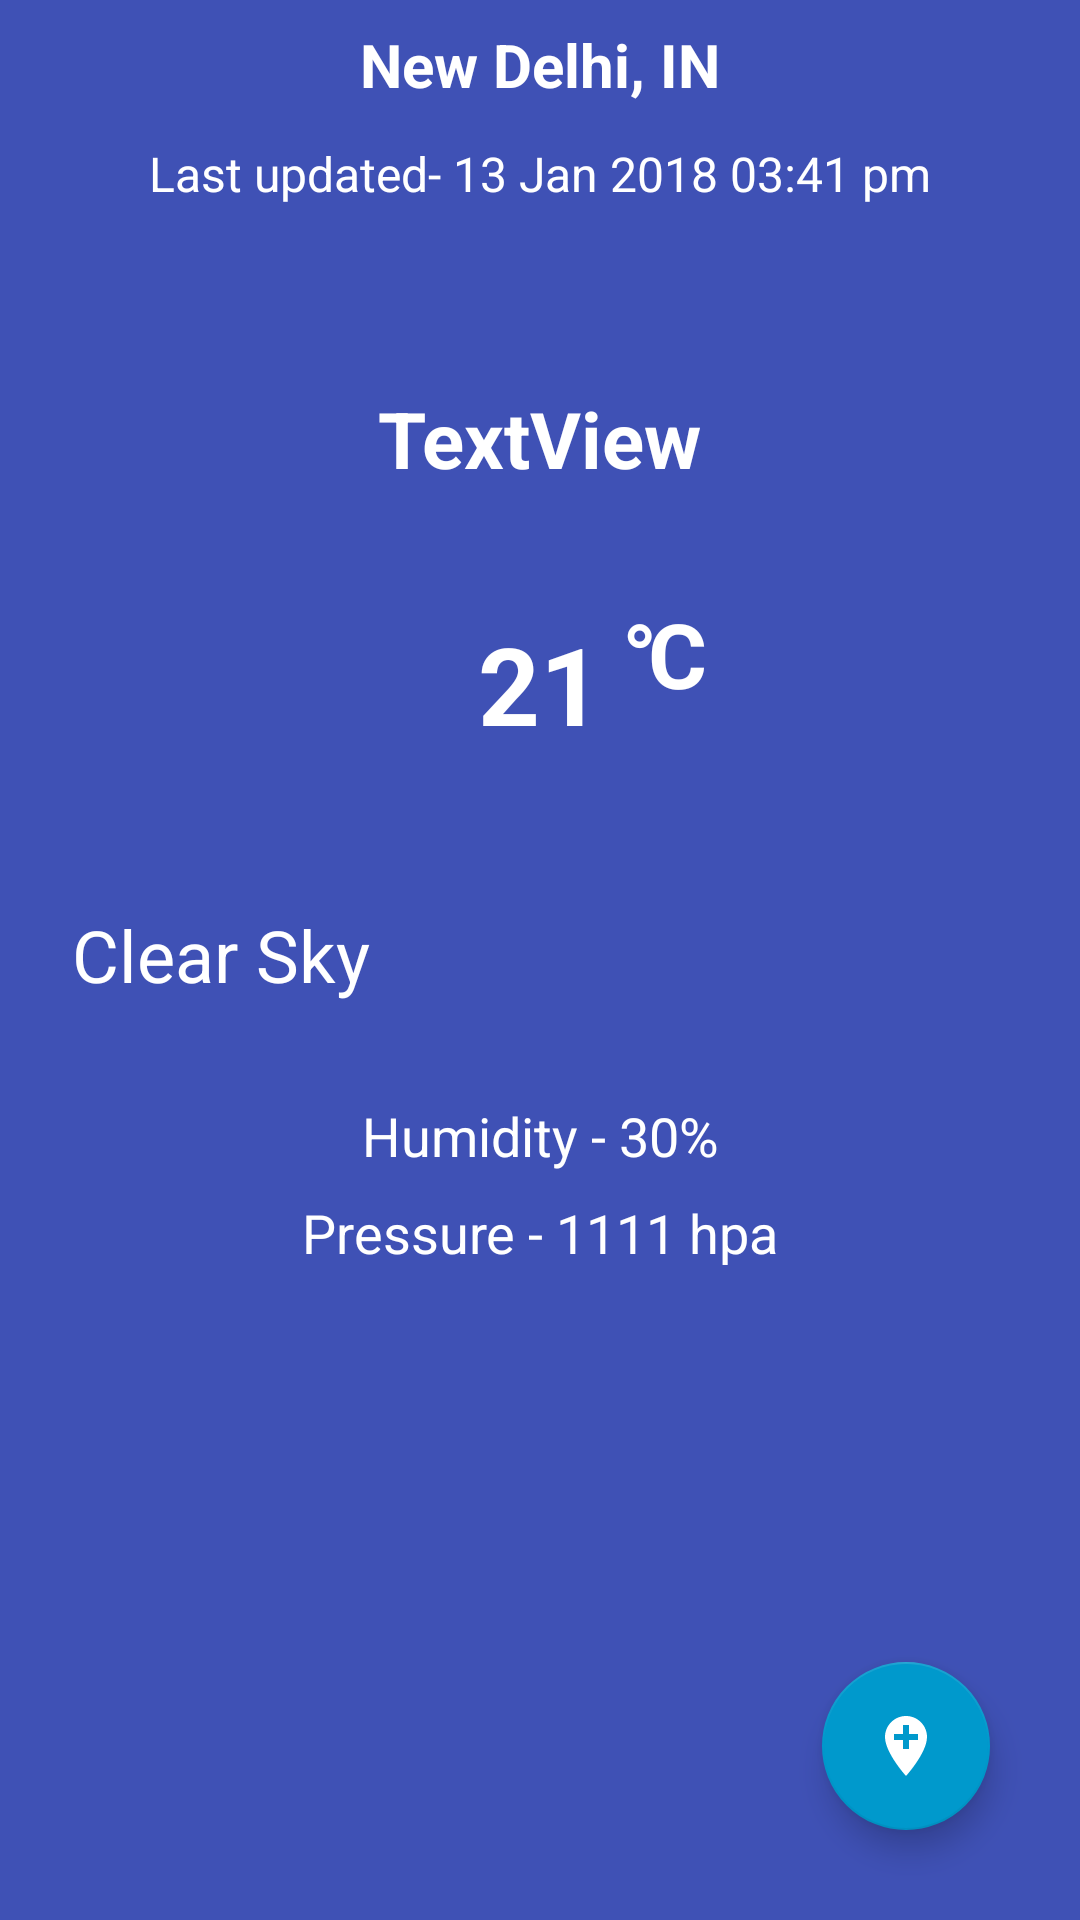

Locate icon controls on the screen. Image size 1080 × 1920, boxes as Rect(x1, y1, x2, y2).
add location: Rect(822, 1662, 990, 1830)
